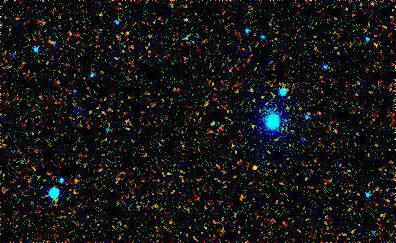star: (242, 155, 272, 185)
